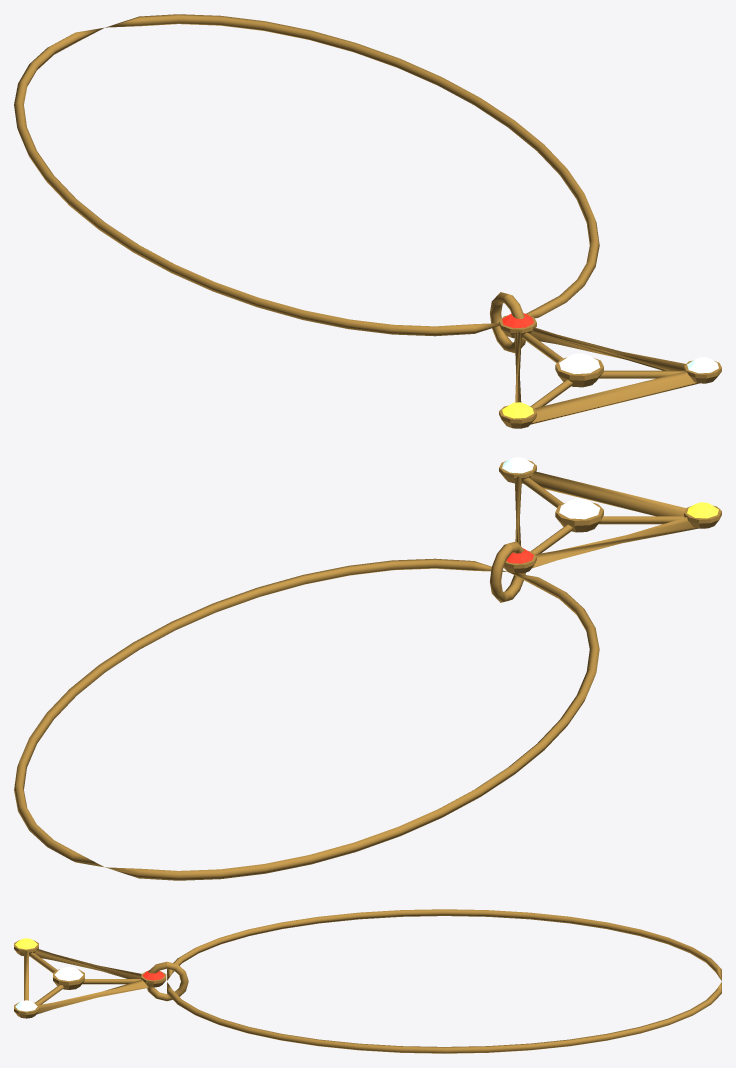
Rendered from amulet_convergence.glb.
3 renders of one model, top to bottom at view 1: azimuth 30°, elevation 25°; view 2: azimuth 150°, elevation 25°; view 3: azimuth 270°, elevation 25°, orthographic. The views are drawn at different scales.
Parts seen in each view (by area): view 1: Amulet_Convergence_Brass, Amulet_Convergence_Gem_pale; view 2: Amulet_Convergence_Brass; view 3: Amulet_Convergence_Brass, Amulet_Convergence_Gem_pale.
Part boxes in pixels (x1,y1,x2,y2): Amulet_Convergence_Brass: (14,14,721,428); Amulet_Convergence_Gem_pale: (559,353,600,374); Amulet_Convergence_Brass: (14,460,721,880); Amulet_Convergence_Brass: (14,909,721,1053); Amulet_Convergence_Gem_pale: (54,966,83,980).
Size of the model in its own units: 0.1021 by 0.0134 by 0.2168.
